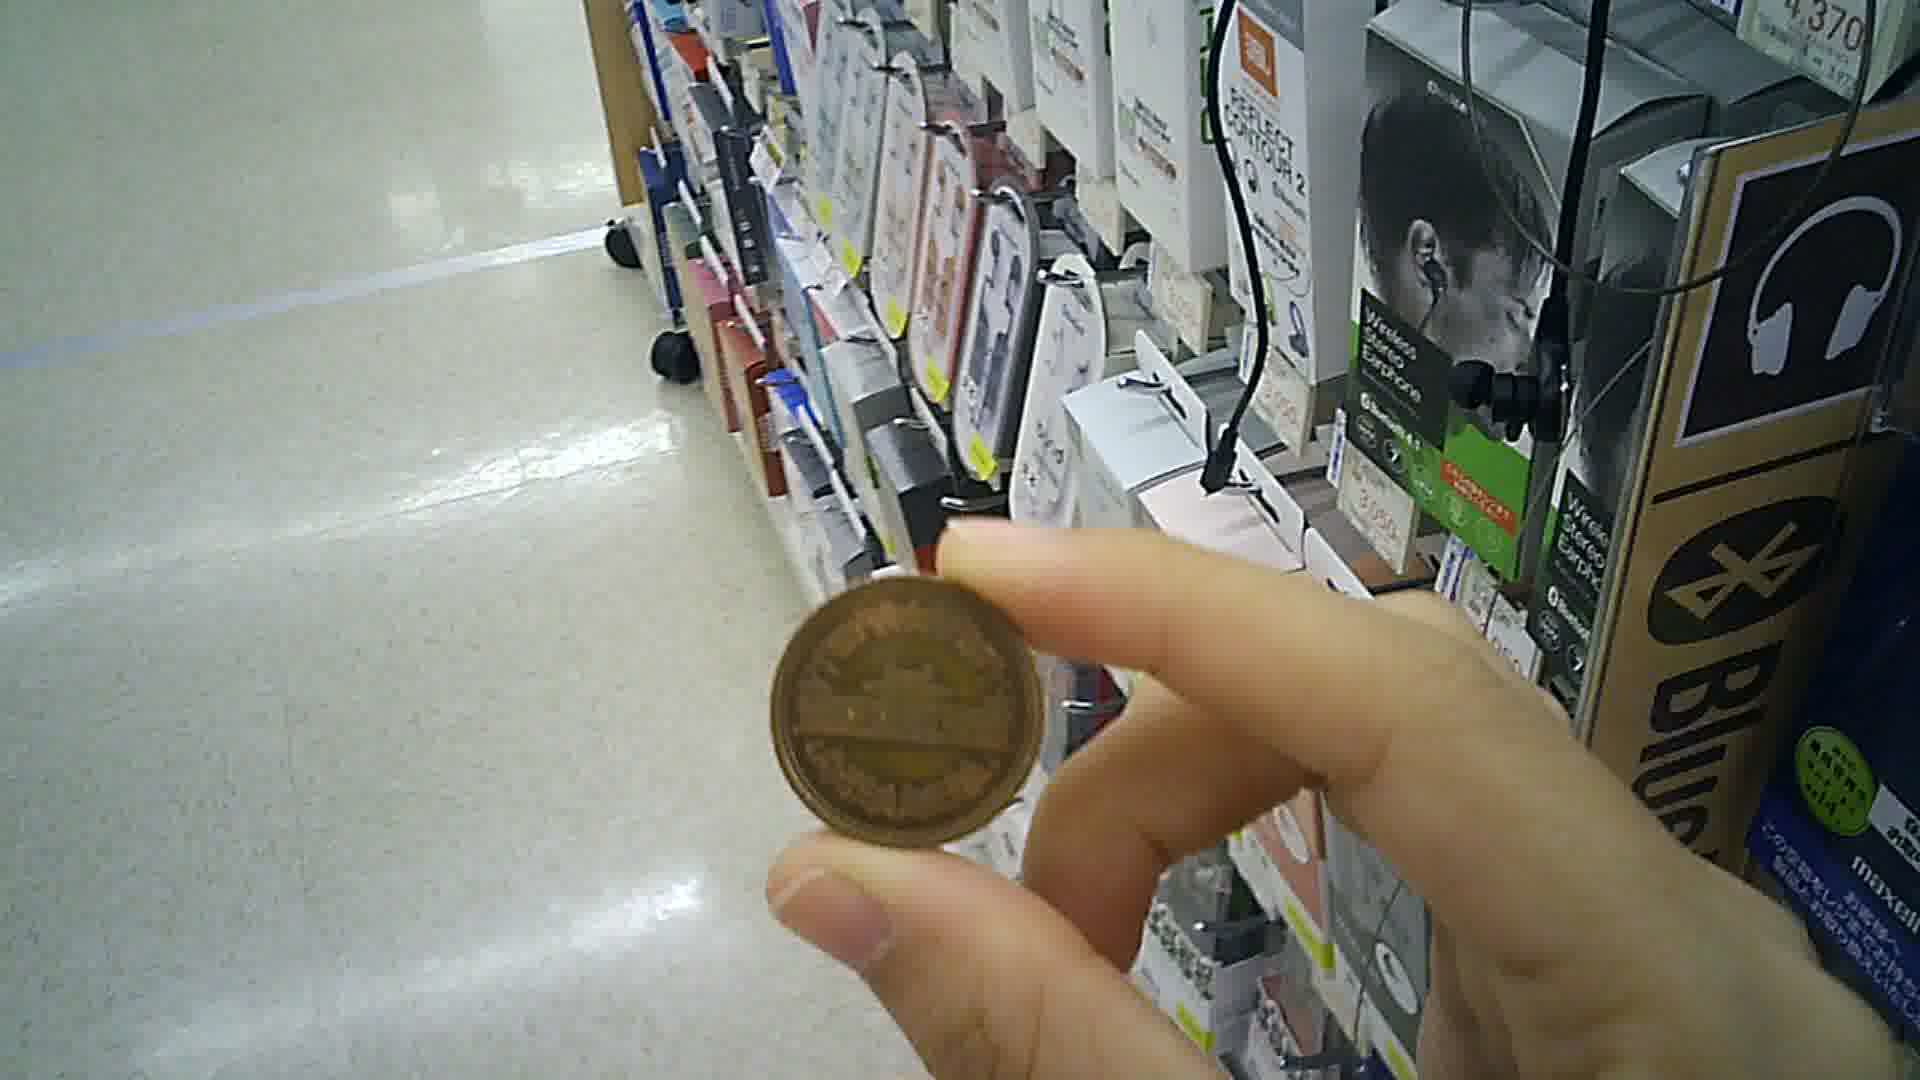10 Yen: (775, 583, 1056, 860)
